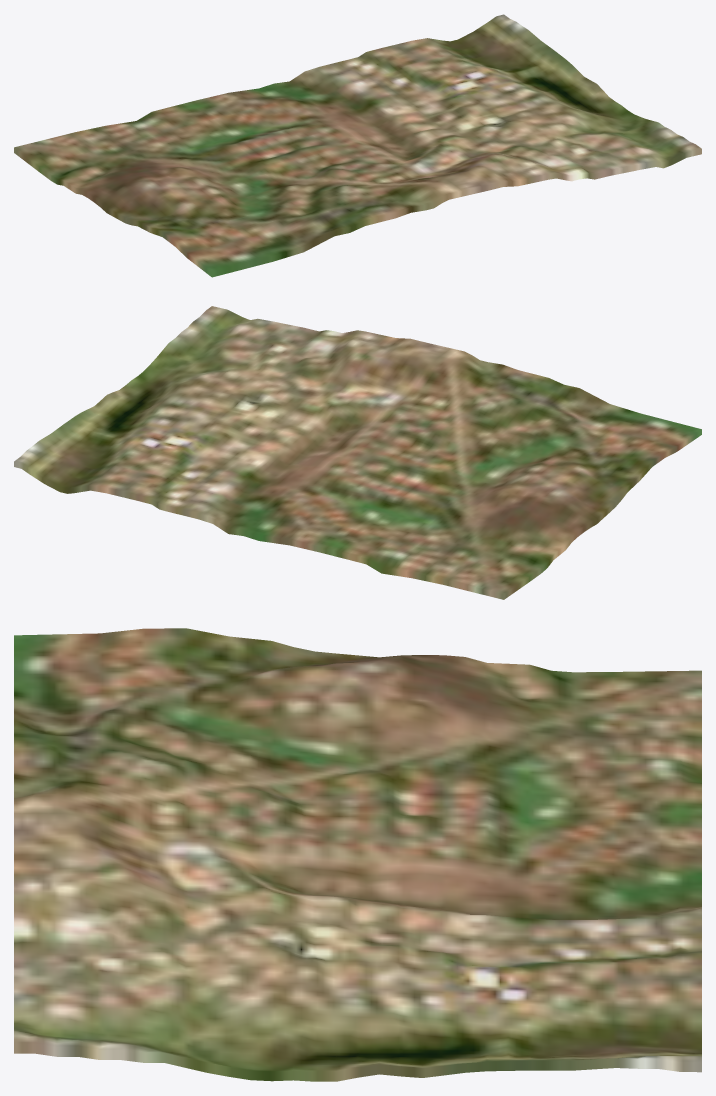
File: terrain_r2_c1_lod2.glb
The picture shows the model from 3 angles, top to bottom: view 1: azimuth 30°, elevation 25°; view 2: azimuth 150°, elevation 25°; view 3: azimuth 270°, elevation 25°; orthographic projection. The views are drawn at different scales.
Parts seen in each view (by area): view 1: terrain_r2_c1_lod2; view 2: terrain_r2_c1_lod2; view 3: terrain_r2_c1_lod2.
Boxes of the visible parts, left/top/right/bottom form: terrain_r2_c1_lod2: left=14, top=14, right=701, bottom=277; terrain_r2_c1_lod2: left=14, top=306, right=701, bottom=599; terrain_r2_c1_lod2: left=14, top=628, right=701, bottom=1081.
Bounding box in the file's own units: 1125 × 109 × 787.
Materials: 1 (1 with a texture image).
